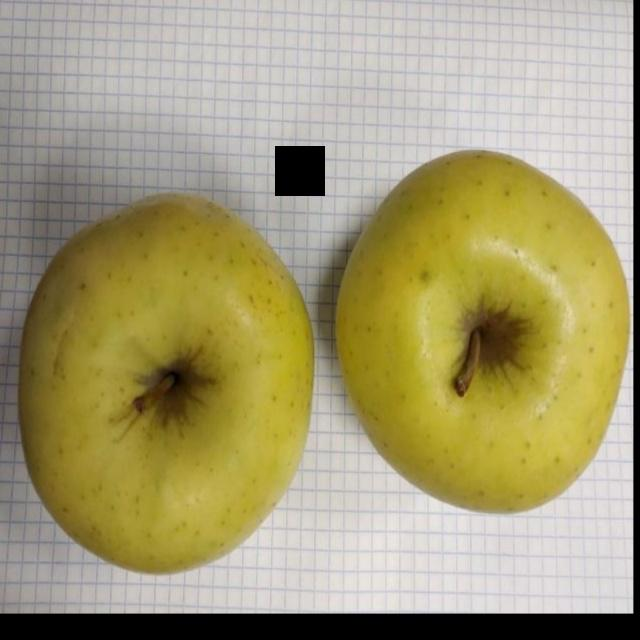green apple: (16, 184, 317, 579), (333, 149, 631, 515)
